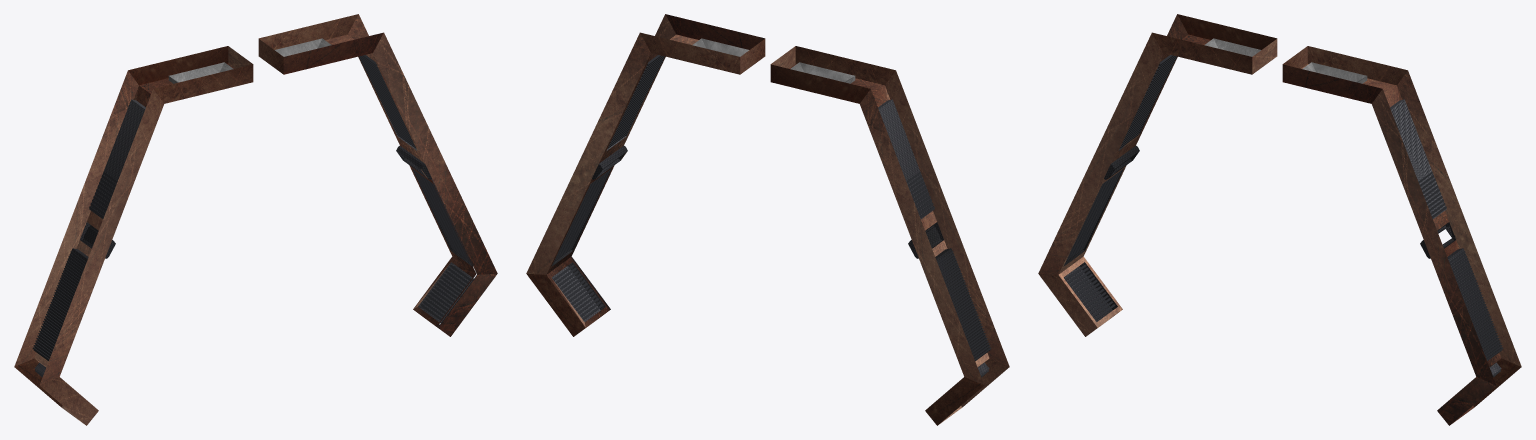
The model's file is ExportedBlenderFBXFile.fbx.
The picture shows the model from 3 angles, left to right: view 1: azimuth 30°, elevation 25°; view 2: azimuth 150°, elevation 25°; view 3: azimuth 330°, elevation 25°; orthographic projection.
Parts seen in each view (by area): view 1: archAccentVent_Plane_041_001; view 2: archAccentVent_Plane_041_001; view 3: archAccentVent_Plane_041_001.
Boxes of the visible parts, left/top/right/bottom form: archAccentVent_Plane_041_001: left=14, top=14, right=497, bottom=425; archAccentVent_Plane_041_001: left=526, top=14, right=1009, bottom=425; archAccentVent_Plane_041_001: left=1038, top=14, right=1521, bottom=425.
Bounding box in the file's own units: 9.18 × 6.14 × 0.8764.
